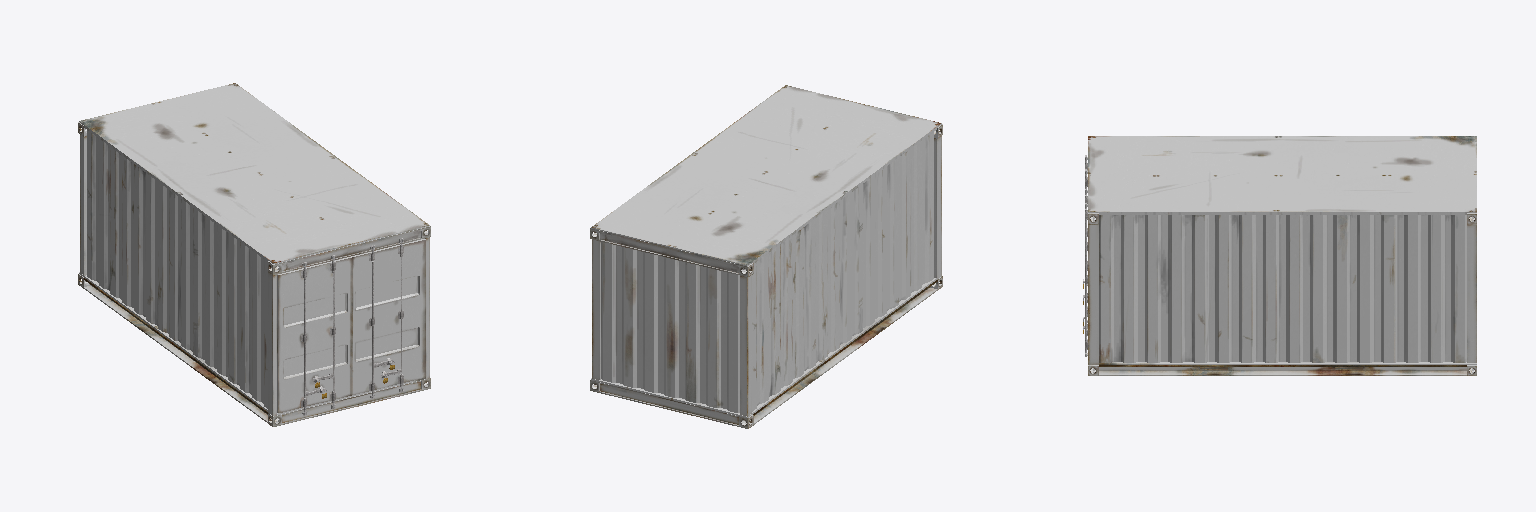
The picture shows the model from 3 angles: view 1: azimuth 30°, elevation 25°; view 2: azimuth 150°, elevation 25°; view 3: azimuth 270°, elevation 25°; orthographic projection.
Parts seen in each view (by area): view 1: Box432, Line104, Box424, Box382, Line105, Box431, Box434, Box407, Box426, Box433, Box365; view 2: Box432, Line104, Line91, Line105, Box429, Box428, Box426, Box430, Box433, Box407; view 3: Line107, Box432, Line106, Box365, Box430, Box433.
Part boxes in pixels (x1,y1,x2,y2): Box432: (79,83,429,263); Line104: (87,130,271,408); Box424: (277,257,351,412); Box382: (351,239,425,394); Line105: (84,278,271,422); Box431: (268,226,430,274); Box434: (268,378,430,426); Box407: (268,272,276,415); Box426: (80,135,86,275); Box433: (79,272,425,414); Box365: (425,237,429,378); Box432: (591,85,941,266); Line104: (750,132,933,411); Line91: (601,242,739,412); Line105: (750,280,937,424); Box429: (590,380,753,428); Box428: (590,228,753,276); Box426: (740,275,751,416); Box430: (592,240,600,379); Box433: (591,278,936,417); Box407: (934,136,941,279); Line107: (1099,215,1466,362); Box432: (1088,136,1476,214); Line106: (1099,365,1466,375); Box365: (1088,225,1098,364); Box430: (1467,225,1476,362); Box433: (1099,362,1476,364).
Size of the model in its own units: 2.76 by 2.73 by 5.97.
4 materials, 3 textured.